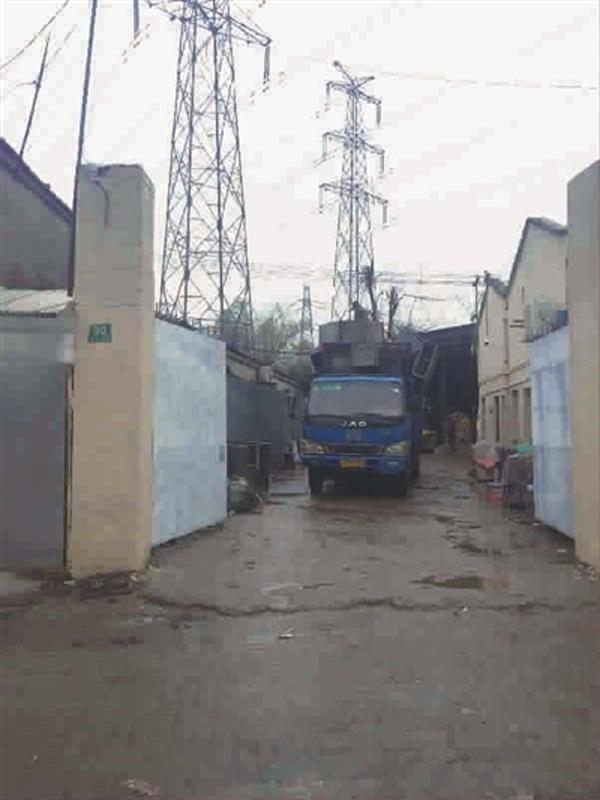power_tower: (124, 3, 281, 357), (307, 51, 406, 358)
